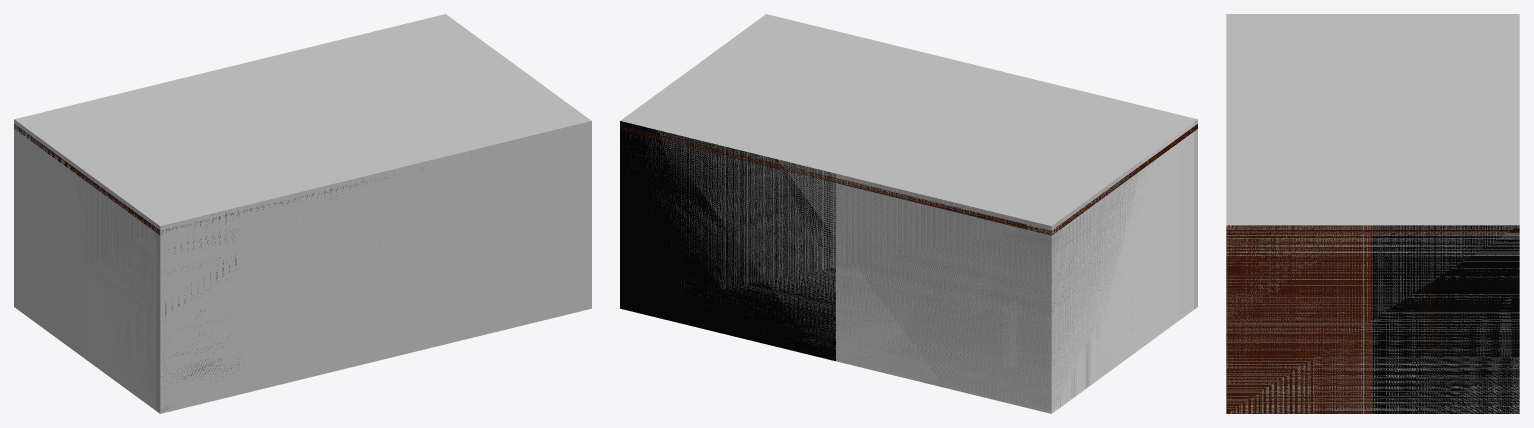
Rendered from desk.DAE.
The picture shows the model from 3 angles, left to right: view 1: azimuth 30°, elevation 25°; view 2: azimuth 150°, elevation 25°; view 3: azimuth 270°, elevation 25°; orthographic projection.
Parts seen in each view (by area): view 1: bounds, colbox-1, desk100; view 2: bounds, colbox-1, desk100; view 3: bounds, colbox-1, desk100.
Boxes of the visible parts, x1,y1,x2,y2 form: bounds: [14, 14, 591, 413]; colbox-1: [14, 119, 363, 413]; desk100: [14, 124, 394, 234]; bounds: [620, 14, 1197, 411]; colbox-1: [620, 119, 1197, 413]; desk100: [620, 124, 1197, 235]; bounds: [1226, 14, 1519, 413]; colbox-1: [1226, 225, 1519, 413]; desk100: [1226, 230, 1519, 234].
Size of the model in its own units: 243 by 143 by 101.
